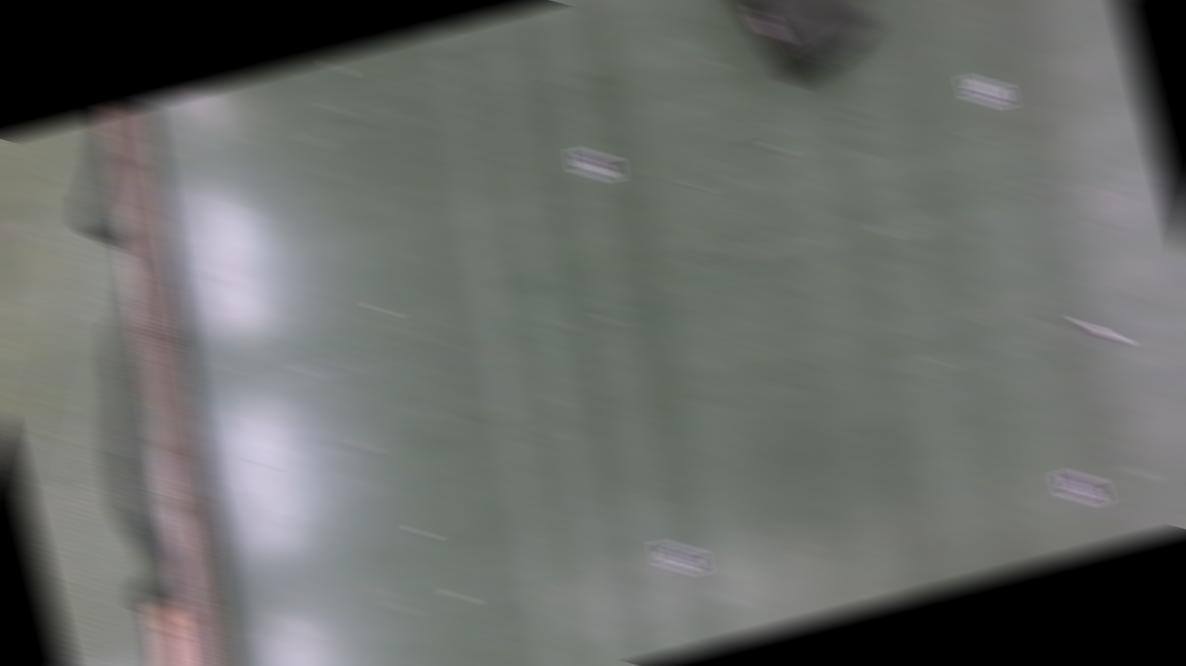probes: (1073, 308, 1125, 348)
rako: (713, 0, 889, 98)
